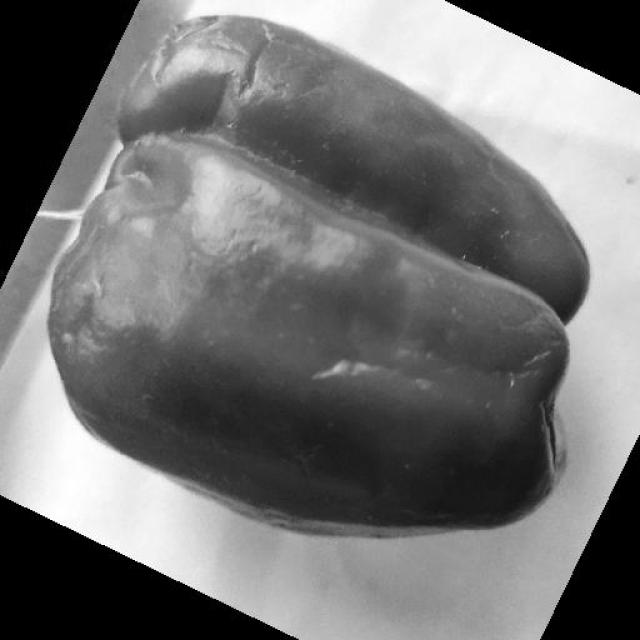Stale_Capsicum: (86, 56, 578, 553)
